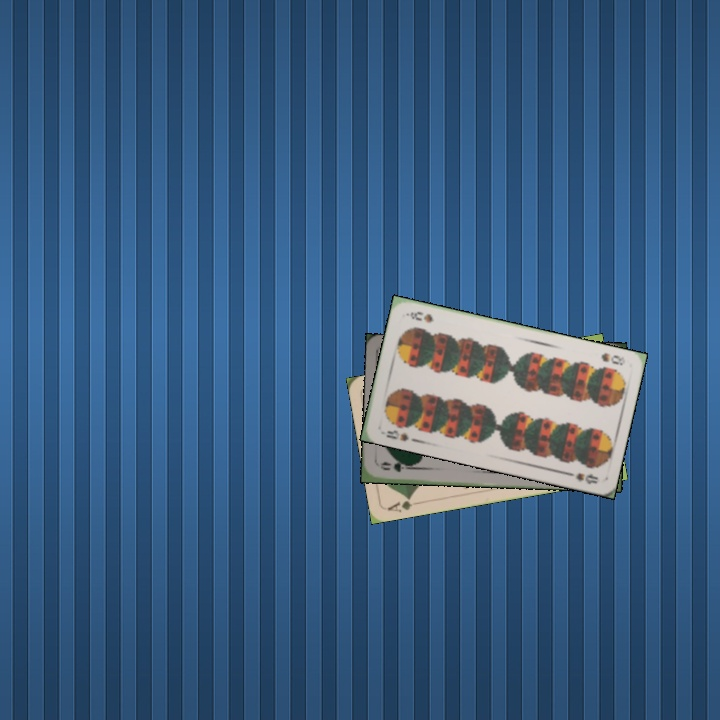GA: (383, 492, 424, 515)
GO: (376, 459, 417, 474)
S8: (377, 426, 411, 444), (597, 349, 628, 368)
